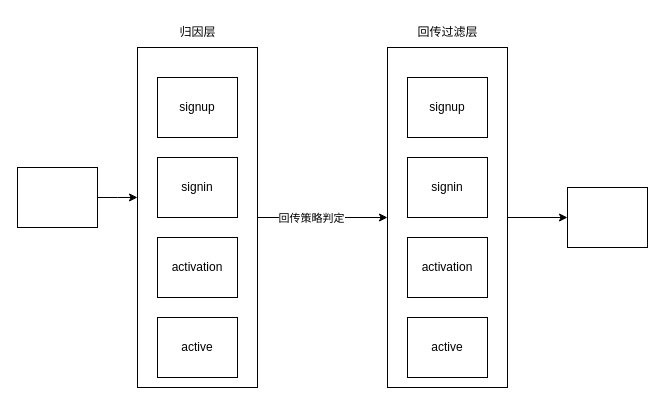
Image size: 665x405. Some labels were removed from this diagram. The centre of each missing label's shape, as x and y in pixels:
"job-entry" goes at point (57, 197).
"回传层" goes at point (607, 217).
